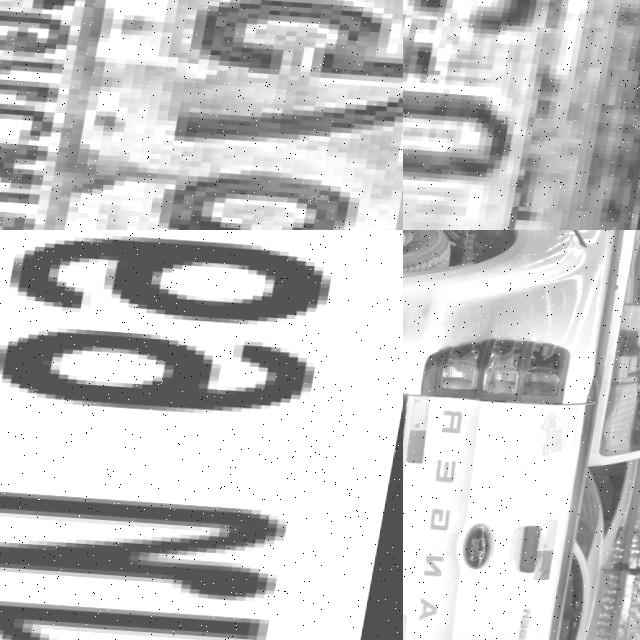license-plate: (0, 230, 403, 640), (0, 0, 403, 230), (403, 0, 640, 230)
